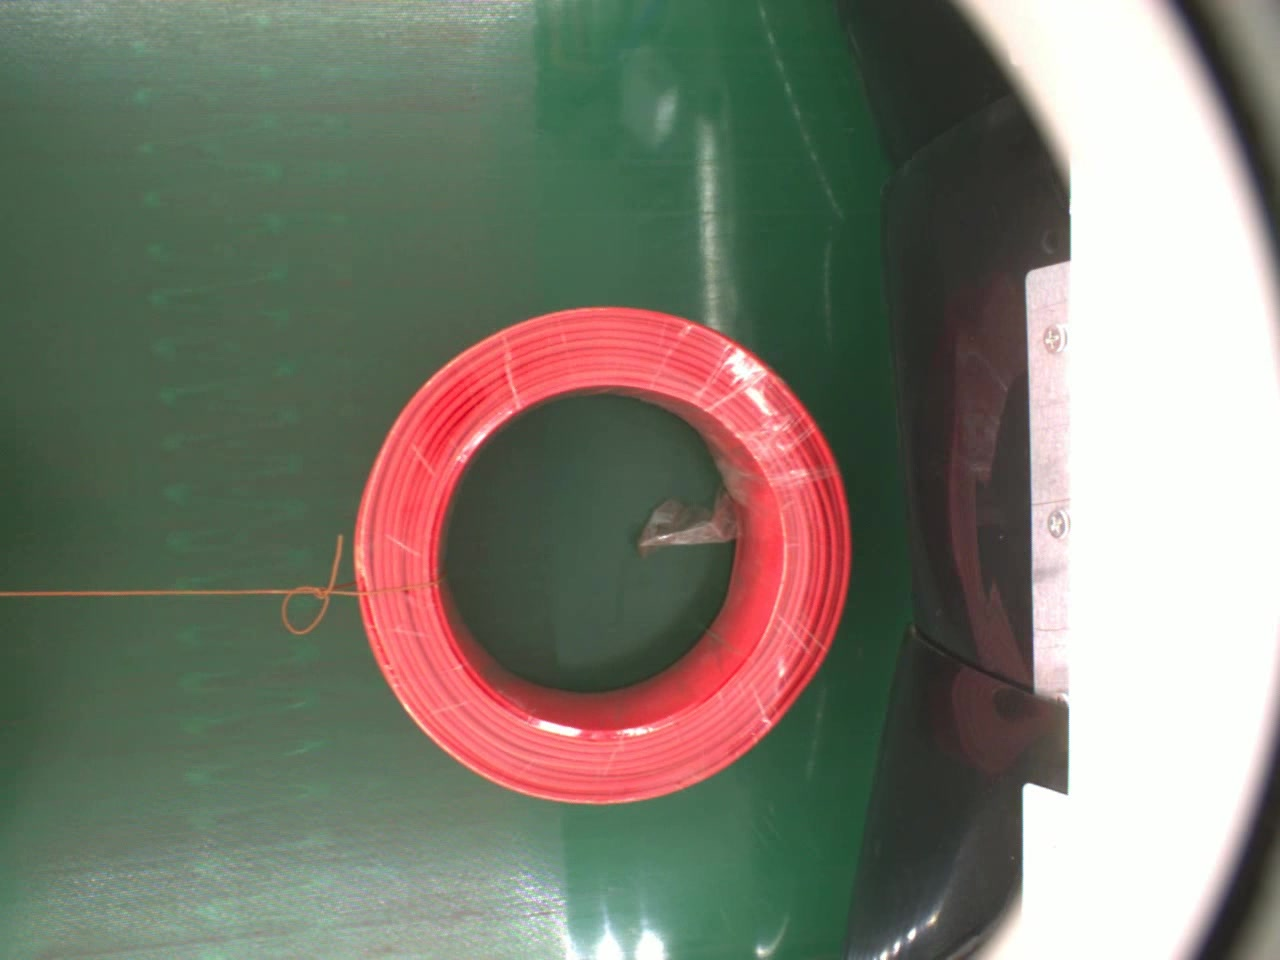red: (353, 304, 856, 806)
